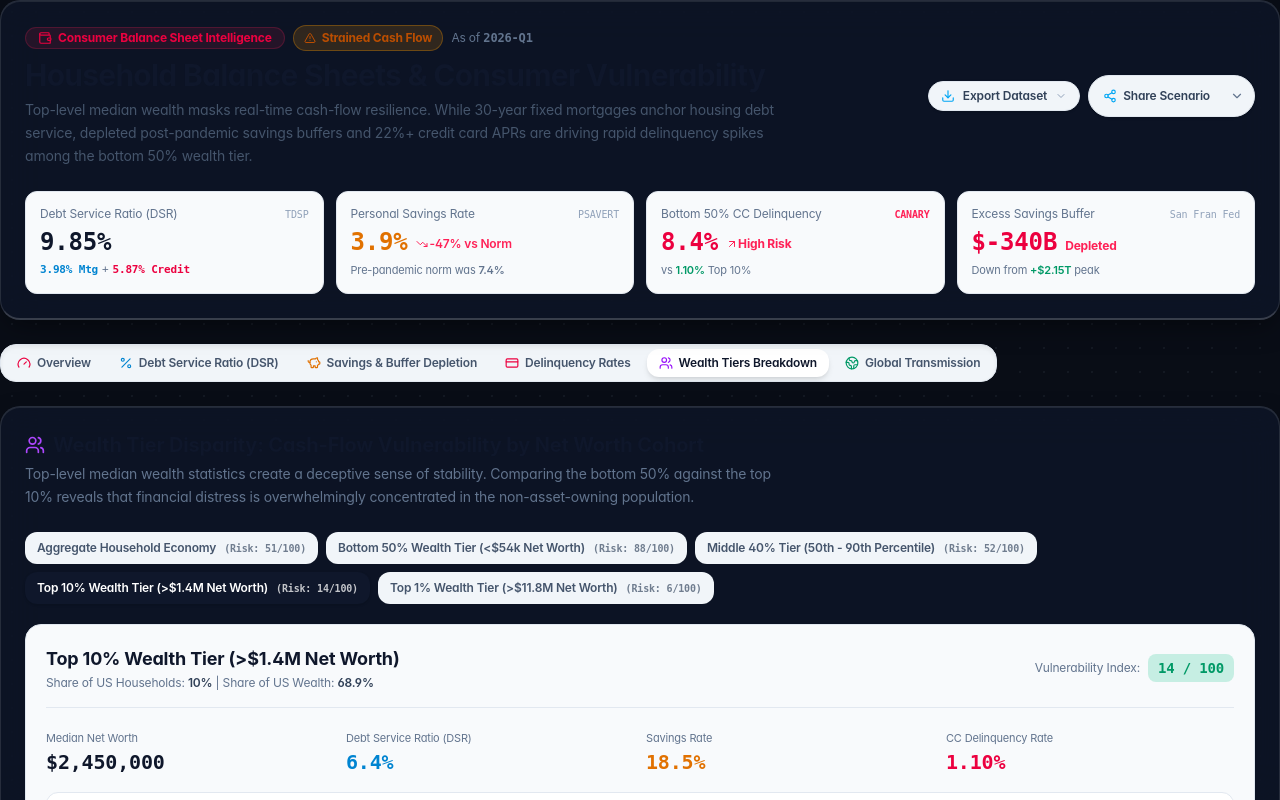
HouseholdVulnerabilityRadar Component › switches to Global Transmission view and selects different economies
Click the button "Global Transmission" at [913, 363], box [833,349,992,377]
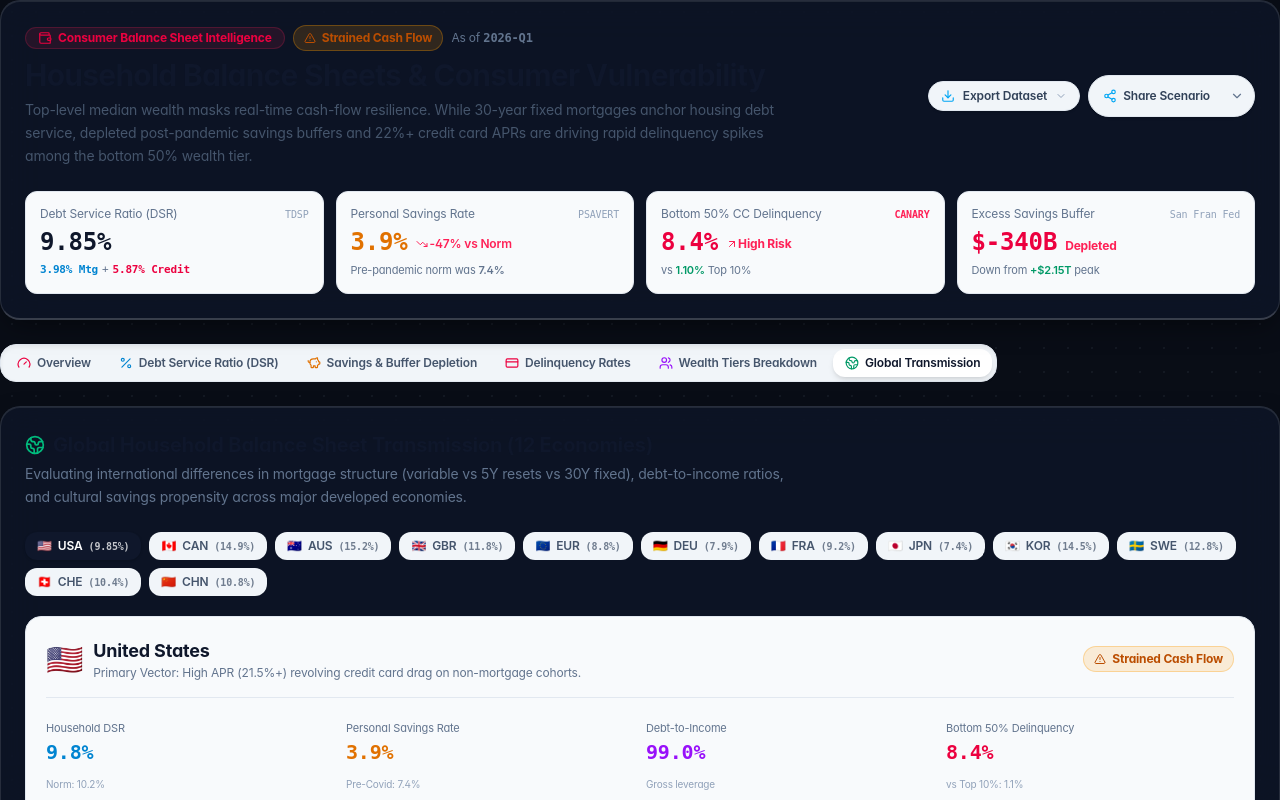
Check: the heading "Global Household Balance Sheet Transmission (12 Economies)" is shown, box [25,433,653,457]
Click the button "🇨🇦 CAN (14.9%)" at [208, 546], box [150,532,267,560]
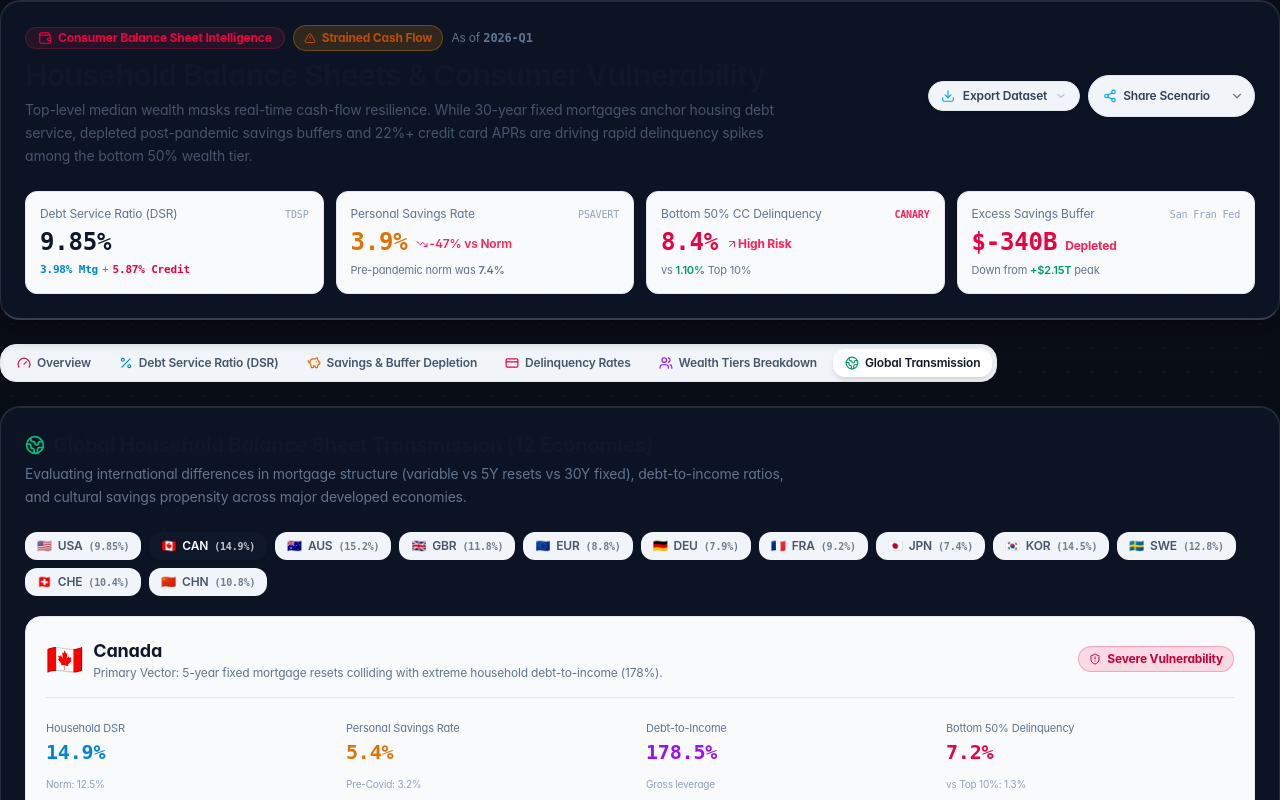
Check: the text "5-year fixed mortgage resets" is shown, box [182,665,662,680]
